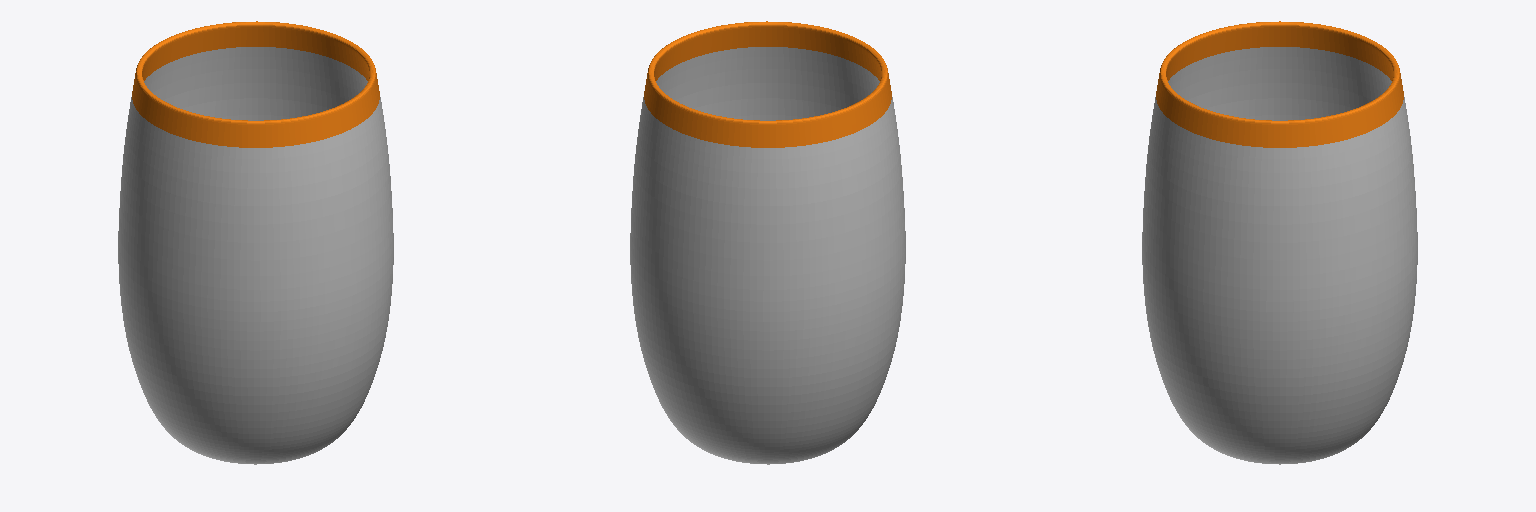
3 views of the same model, side by side, from view 1: azimuth 30°, elevation 25°; view 2: azimuth 150°, elevation 25°; view 3: azimuth 270°, elevation 25° (orthographic).
Parts seen in each view (by area): view 1: Glass_Cylinder; view 2: Glass_Cylinder; view 3: Glass_Cylinder.
Boxes of the visible parts, x1,y1,x2,y2 form: Glass_Cylinder: [118, 21, 393, 464]; Glass_Cylinder: [630, 21, 905, 464]; Glass_Cylinder: [1142, 21, 1417, 464].
Bounding box in the file's own units: 29.98 × 44.3 × 29.98.